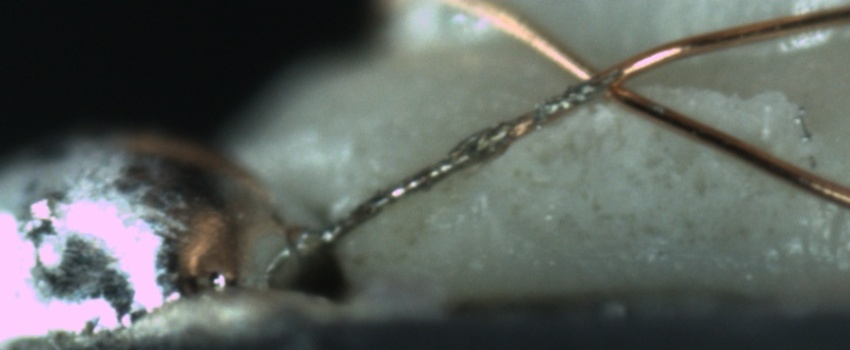CL: (556, 42, 650, 112)
TS: (300, 72, 615, 256)
TTCW: (308, 52, 659, 250)
